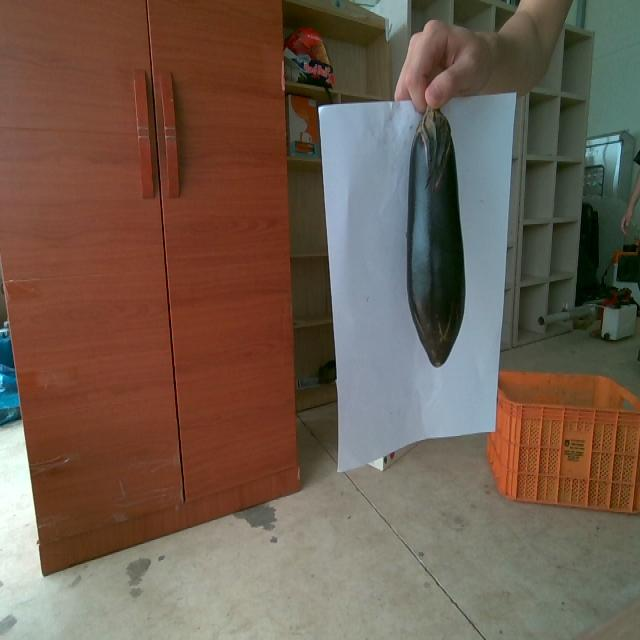Egg plant: (407, 107, 464, 365)
